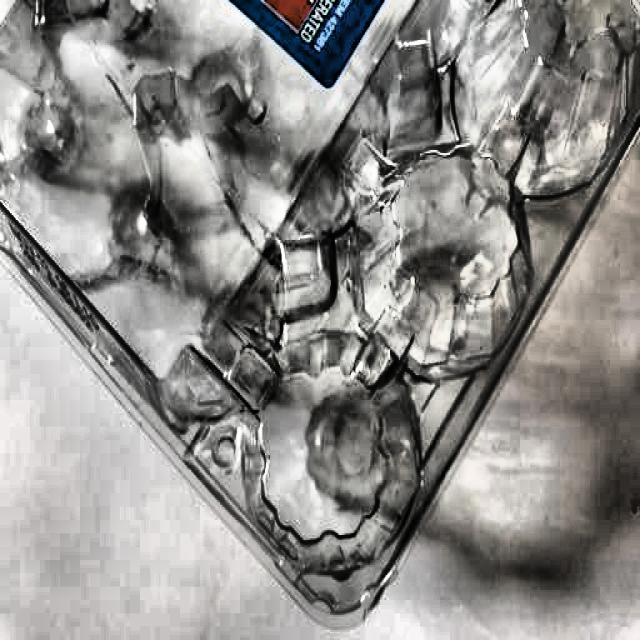plastic: (0, 0, 634, 588)
